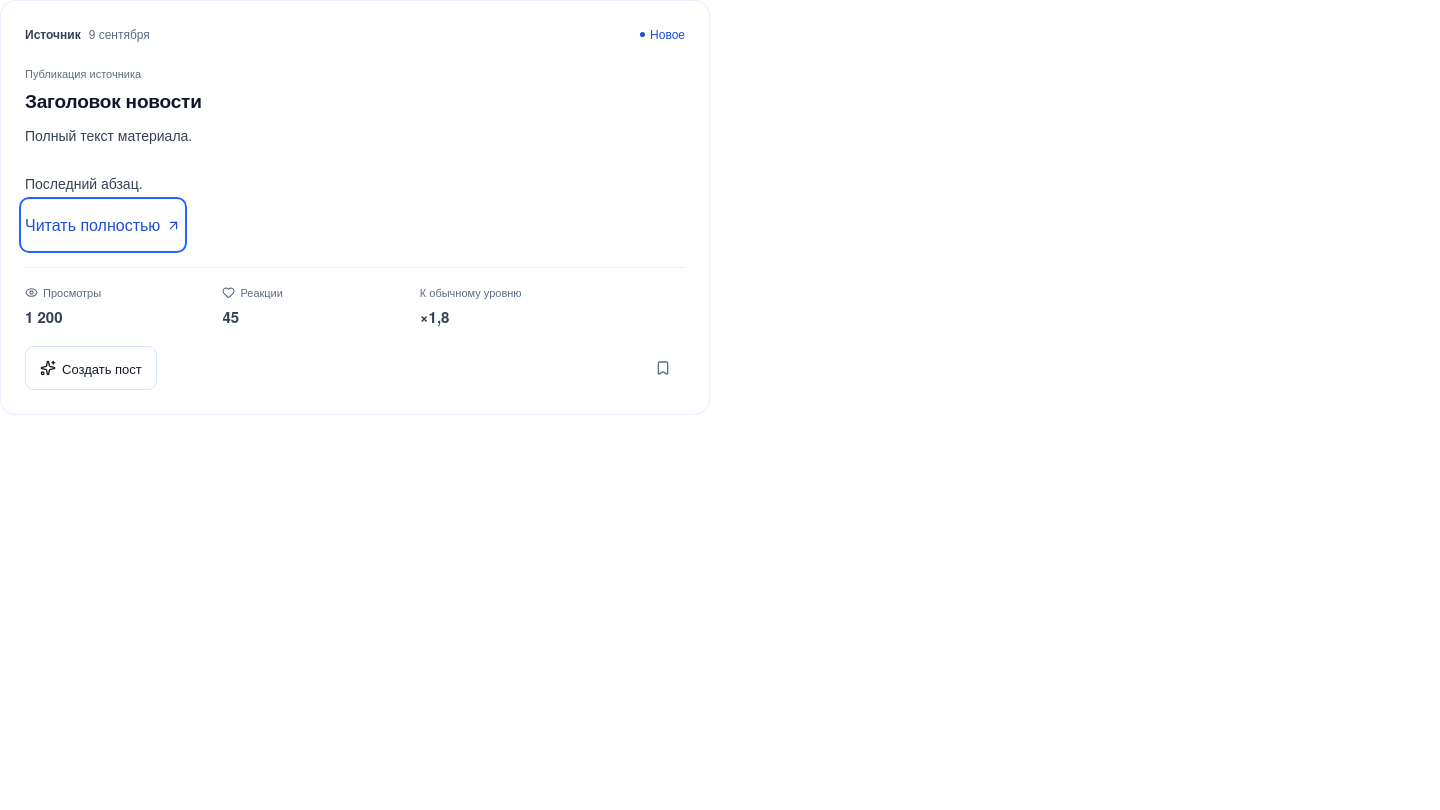
Scenario: library reading experience › opens the entire text, traps focus, closes with Escape and restores the reading button
Click the button "Читать полностью" at (103, 226), box [25,204,181,248]
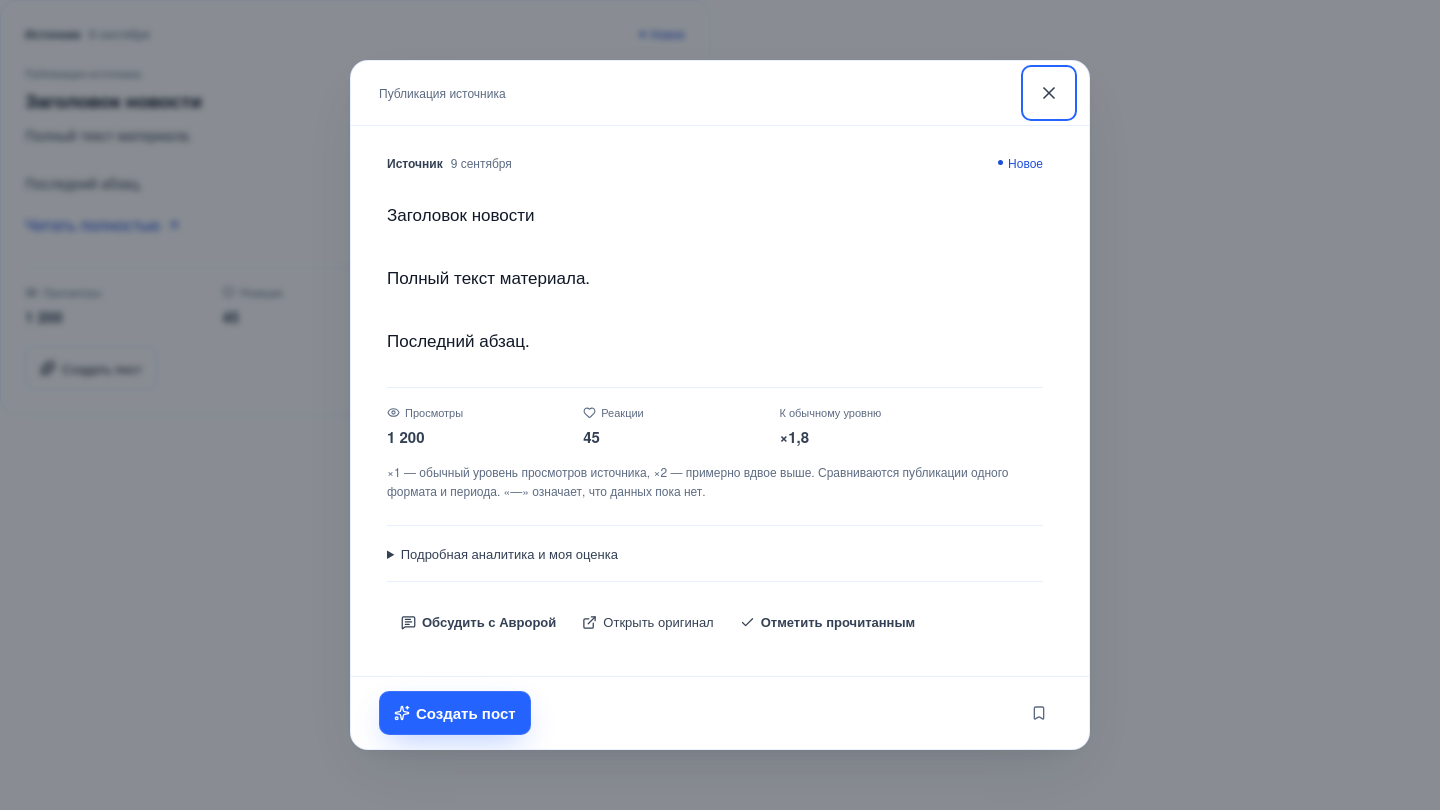
Press Tab in the button named "Закрыть материал", box [1027,71,1071,115]
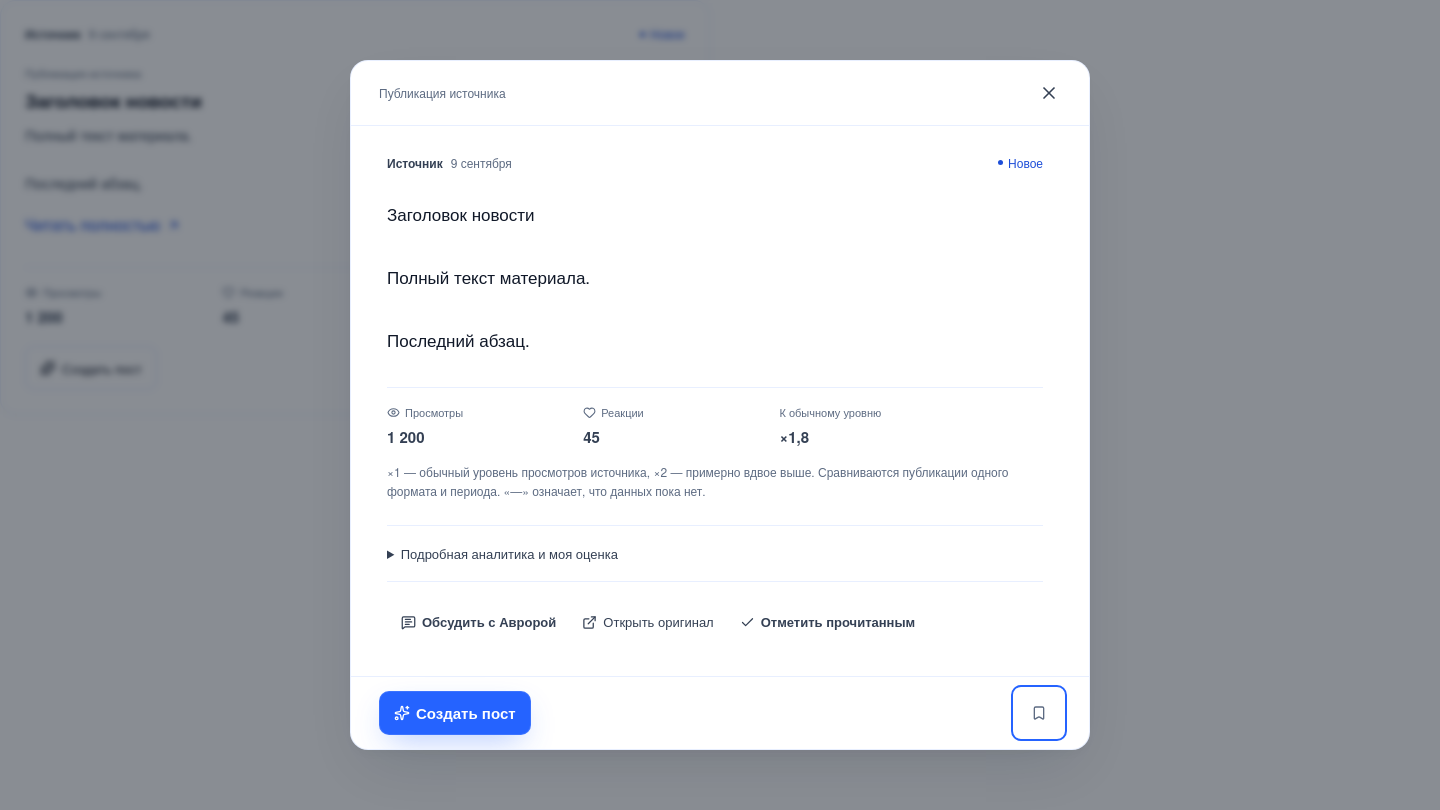
Press Escape in the dialog, box [350,60,1090,750]
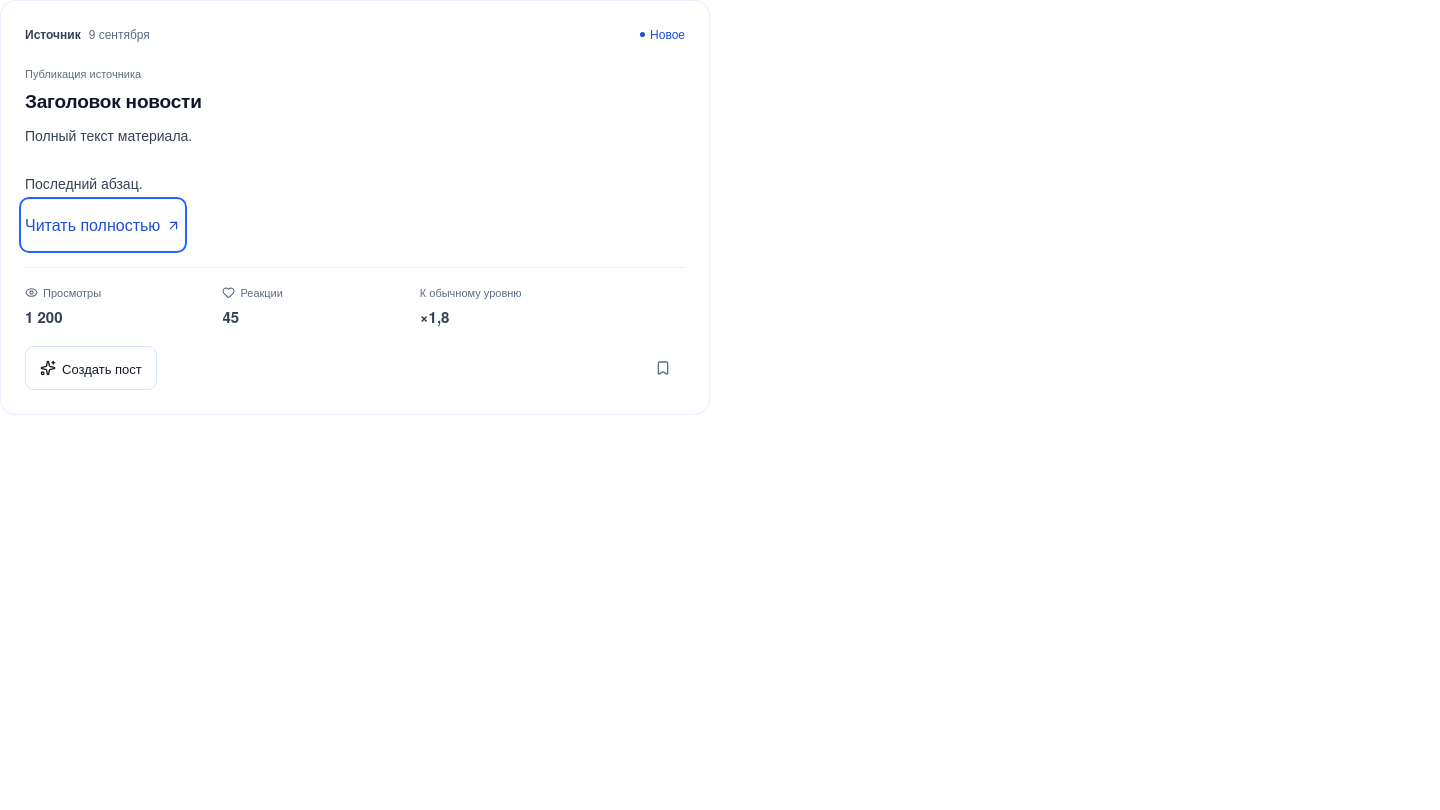
expect the dialog is gone: met
